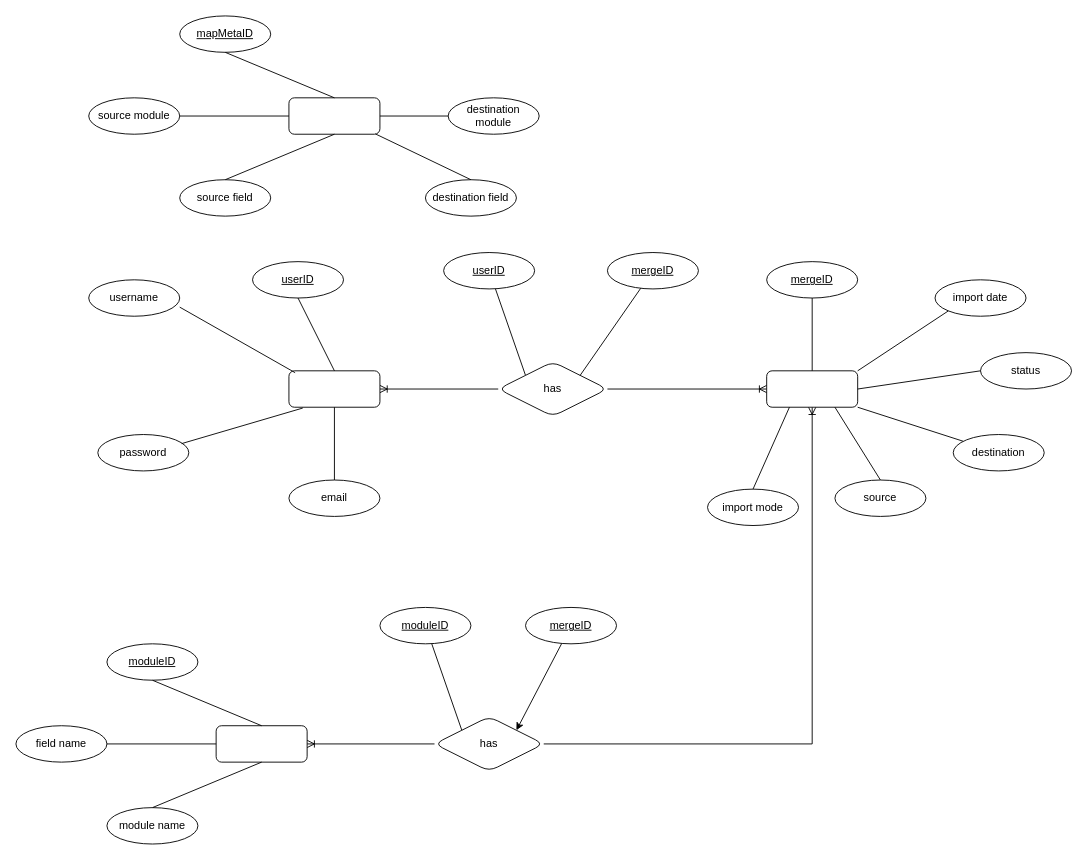
This 1087x860 diagram has some shape labels left out. Here are the shapes that lost their labels. From the top down, the box of each, then its label:
(288, 97, 380, 134): Mapping Meta
(288, 370, 380, 407): user
(766, 370, 858, 407): merge history
(215, 725, 307, 762): module
